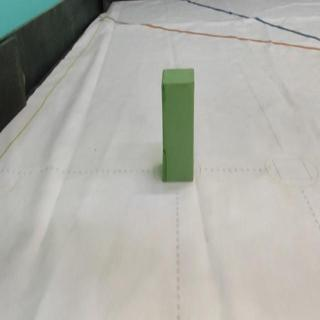greenbox: (161, 67, 196, 182)
